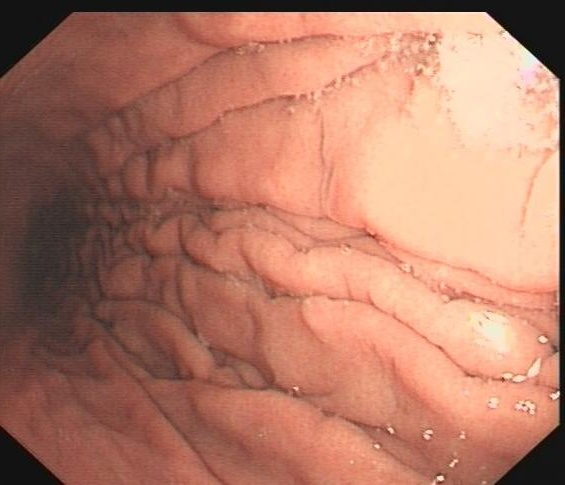Polyp: (292, 283, 344, 342)
